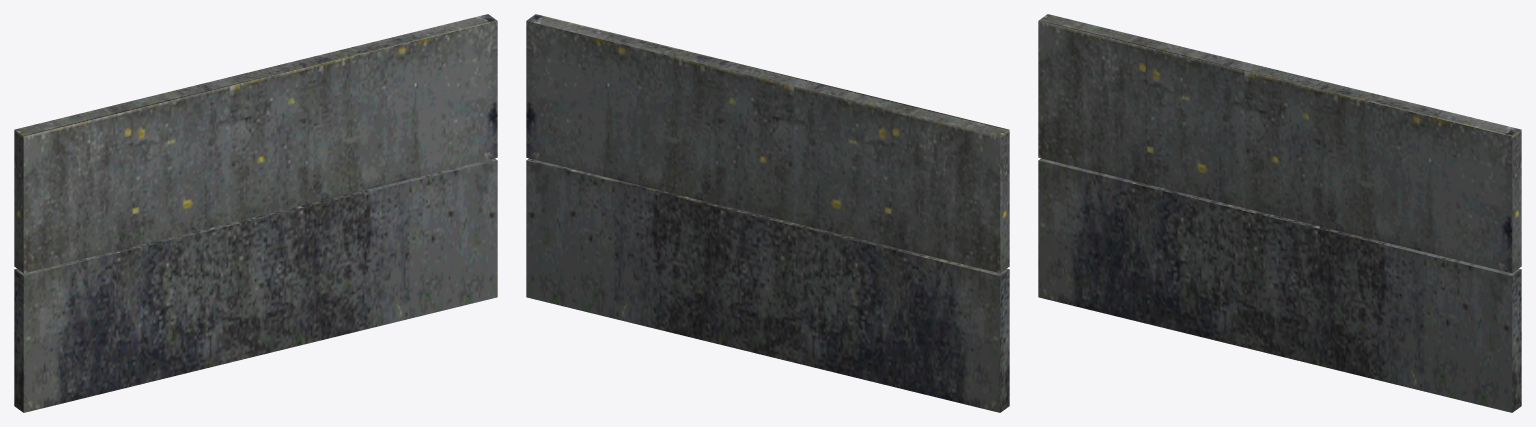
File: Urban_PlackardSlabHalf_Model.fbx
The picture shows the model from 3 angles, left to right: view 1: azimuth 30°, elevation 25°; view 2: azimuth 150°, elevation 25°; view 3: azimuth 330°, elevation 25°; orthographic projection.
Parts seen in each view (by area): view 1: Urban_PlackardSlabHalf_Mesh; view 2: Urban_PlackardSlabHalf_Mesh; view 3: Urban_PlackardSlabHalf_Mesh.
Boxes of the visible parts, x1=… form: Urban_PlackardSlabHalf_Mesh: x1=14, y1=14, x2=497, y2=412; Urban_PlackardSlabHalf_Mesh: x1=526, y1=14, x2=1009, y2=412; Urban_PlackardSlabHalf_Mesh: x1=1038, y1=14, x2=1521, y2=412.
Bounding box in the file's own units: 2.9 × 1.62 × 0.1.
